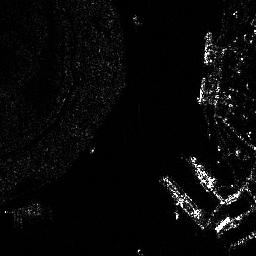ship: (161, 175, 202, 219), (188, 155, 215, 186), (202, 30, 214, 65), (196, 76, 208, 104), (215, 216, 230, 231)
